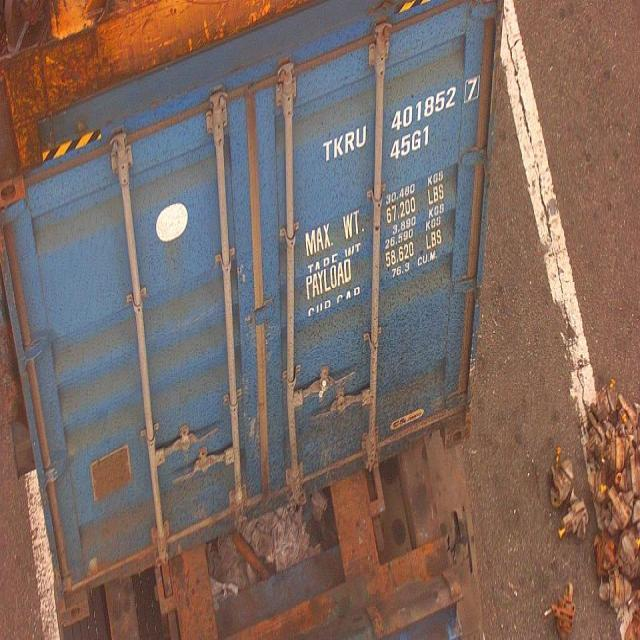ISO: (386, 128, 434, 168)
container_number: (323, 67, 481, 162)
